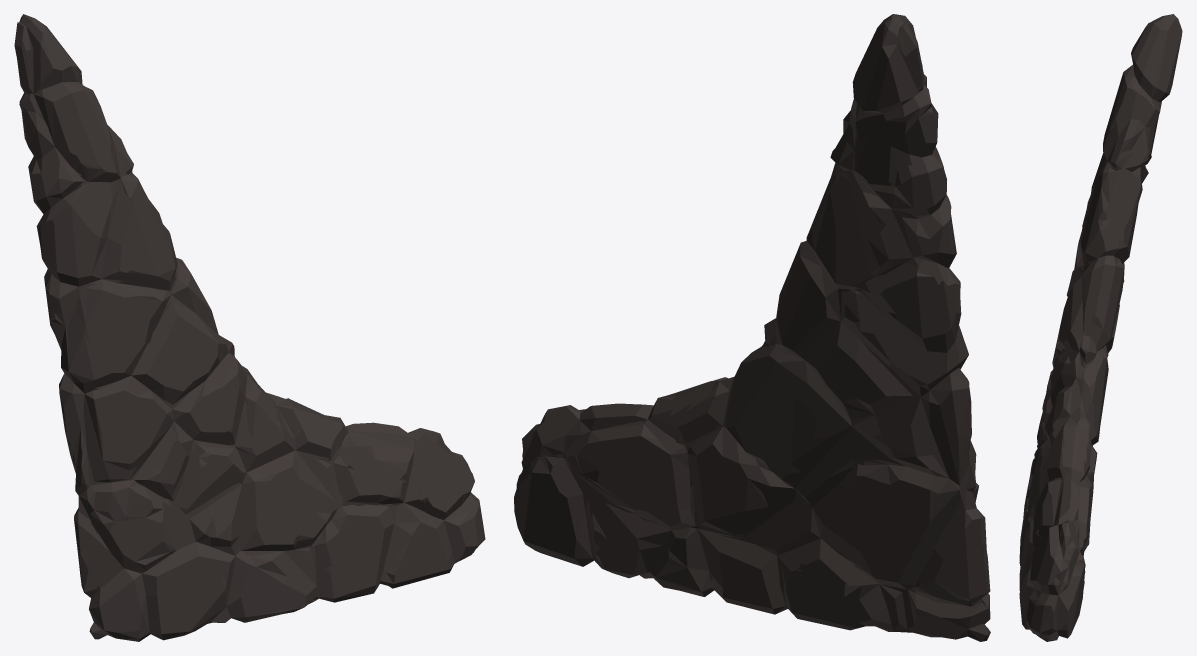
Rendered from DecoWall03.fbx.
3 views of the same model, side by side, from view 1: azimuth 30°, elevation 25°; view 2: azimuth 150°, elevation 25°; view 3: azimuth 270°, elevation 25° (orthographic). The views are drawn at different scales.
Parts seen in each view (by area): view 1: Wand02.007; view 2: Wand02.007; view 3: Wand02.007.
Boxes of the visible parts, x1=… form: Wand02.007: x1=14, y1=14, x2=485, y2=641; Wand02.007: x1=514, y1=14, x2=990, y2=641; Wand02.007: x1=1019, y1=14, x2=1182, y2=641.
Bounding box in the file's own units: 478 × 202 × 658.
